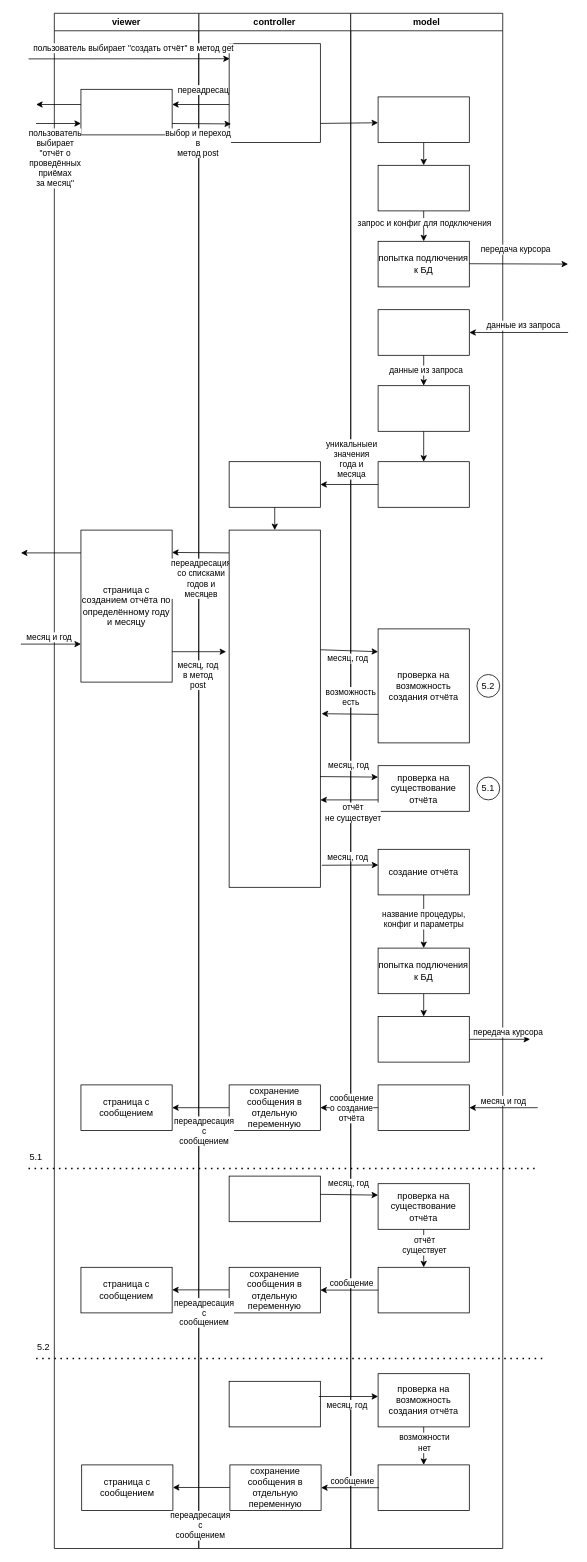
This 587x1562 diagram has some shape labels left out. The centre of each missing label's shape, as x and y in pixels:
"вставка данных в запрос с помощью provider" goes at point (423, 188).
"выделение месяцев в отдельную переменную" goes at point (423, 484).
"выделение уникальных дат в отдельную переменную" goes at point (423, 408).
"вызов процедуры" goes at point (423, 1039).
"поиск дат для списка выбора" goes at point (423, 119).
"сообщение о неимении возможности создания" goes at point (423, 1487).
"сообщение о существовании отчёта" goes at point (423, 1290).
"сохранение года и месяца в отдельную переменную" goes at point (274, 484).
"страница с списком отчётов для создания" goes at point (126, 112).
